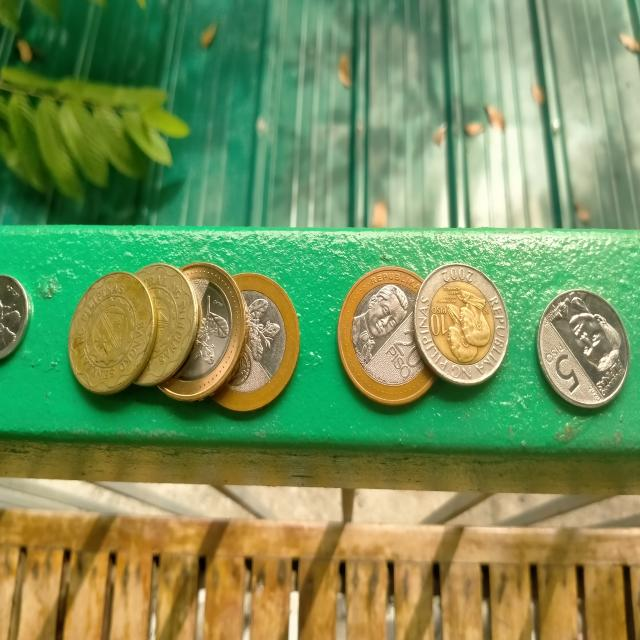10_Old_Front: (430, 296, 450, 347)
20_New_Front: (385, 330, 424, 378)
5_New_Front: (542, 335, 582, 404)
